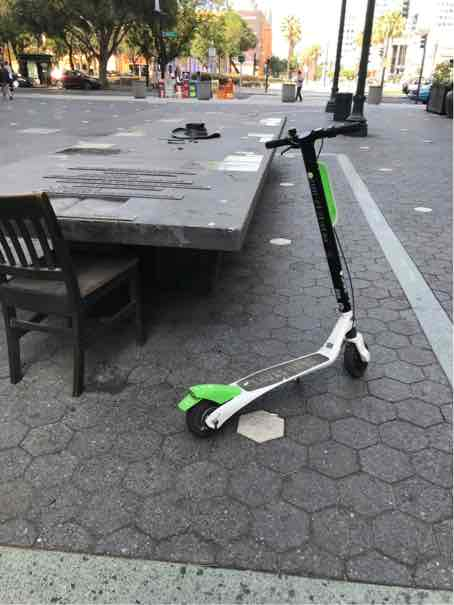scooter: (167, 123, 387, 451)
